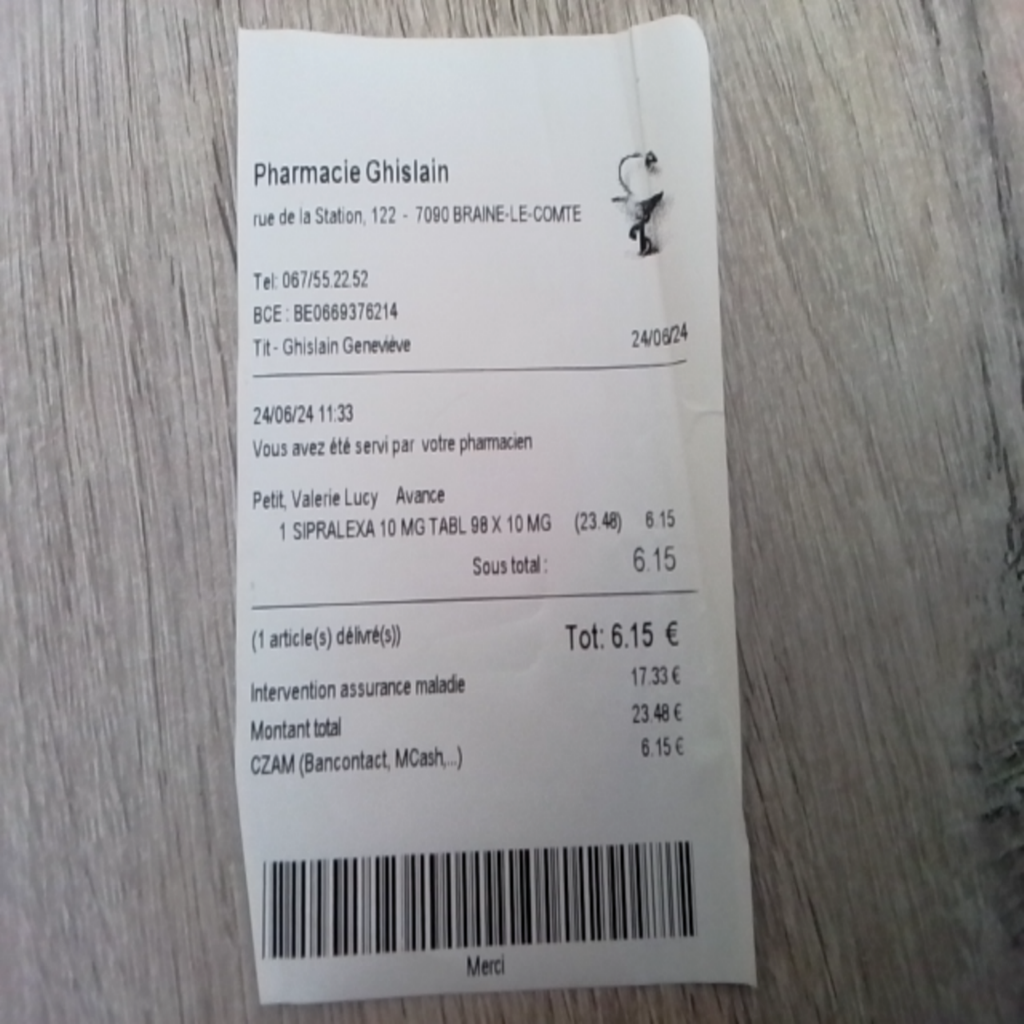recipt: (233, 15, 755, 1005)
